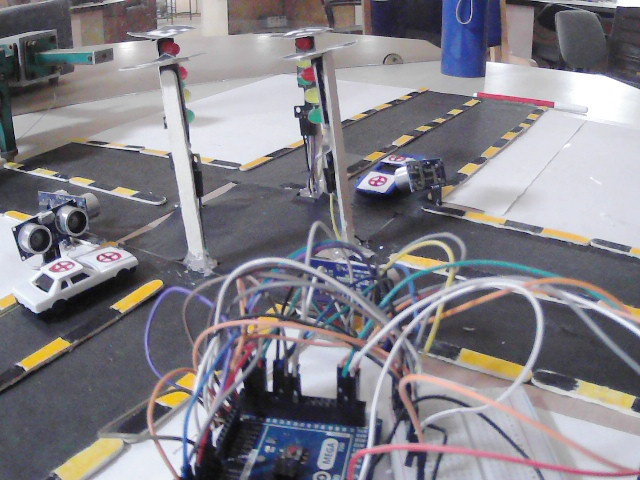aruco_marker: (122, 52, 197, 71), (294, 39, 356, 60), (129, 25, 194, 41), (278, 23, 332, 39)
emergency_vehicle: (14, 242, 142, 318), (356, 148, 426, 197)
traffic_light: (301, 65, 331, 133), (294, 60, 315, 138), (175, 65, 194, 139), (290, 36, 311, 52), (163, 40, 180, 56)
uno_breadboard: (183, 367, 385, 480), (382, 383, 569, 480), (306, 257, 402, 312), (14, 202, 90, 263), (393, 153, 447, 206), (38, 187, 102, 219)
